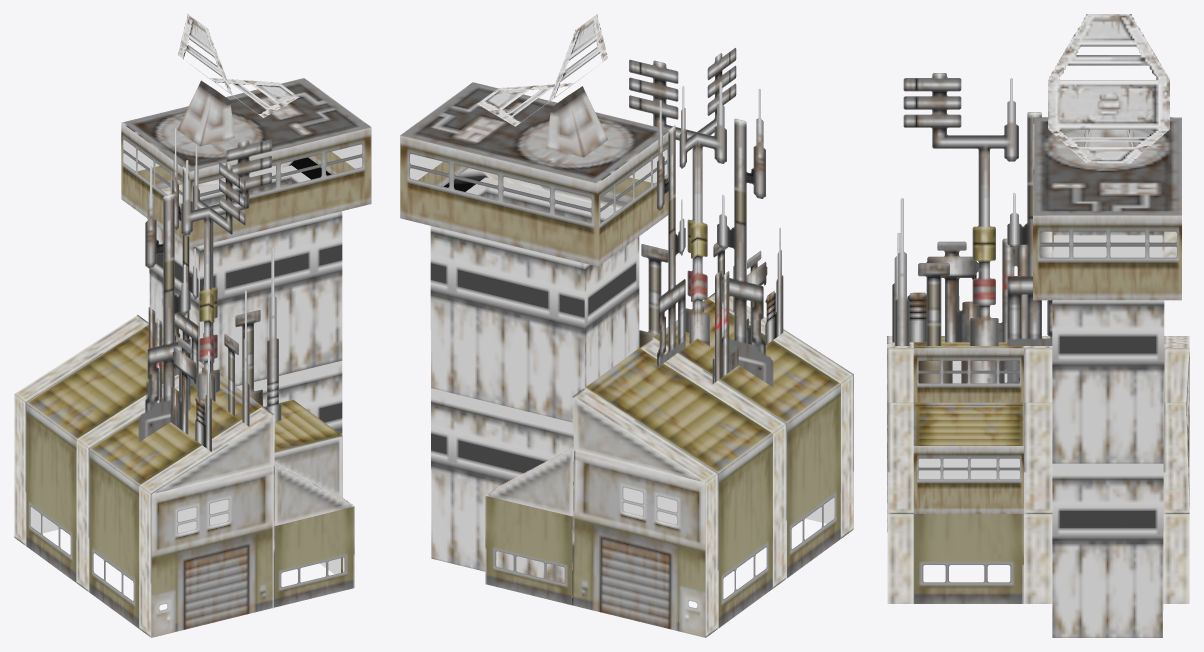
Rendered from d_sensorcontrol.glb.
3 renders of one model, left to right at view 1: azimuth 30°, elevation 25°; view 2: azimuth 150°, elevation 25°; view 3: azimuth 270°, elevation 25°, orthographic. The views are drawn at different scales.
Visible parts, largest first — view 1: SensorControl, L_Dish, LitWin_SensorControl; view 2: SensorControl, L_Dish, LitWin_SensorControl; view 3: SensorControl, L_Dish, LitWin_SensorControl.
Boxes of the visible parts, x1,y1,x2,y2 form: SensorControl: (14, 78, 371, 637); L_Dish: (177, 14, 299, 146); LitWin_SensorControl: (30, 140, 362, 608); SensorControl: (400, 48, 853, 637); L_Dish: (477, 14, 608, 157); LitWin_SensorControl: (410, 149, 834, 524); SensorControl: (887, 73, 1189, 637); L_Dish: (1048, 14, 1169, 163); LitWin_SensorControl: (918, 235, 1162, 479).
Size of the model in its own units: 15.79 by 26.74 by 13.3.
Materials: 2 (2 with a texture image).
